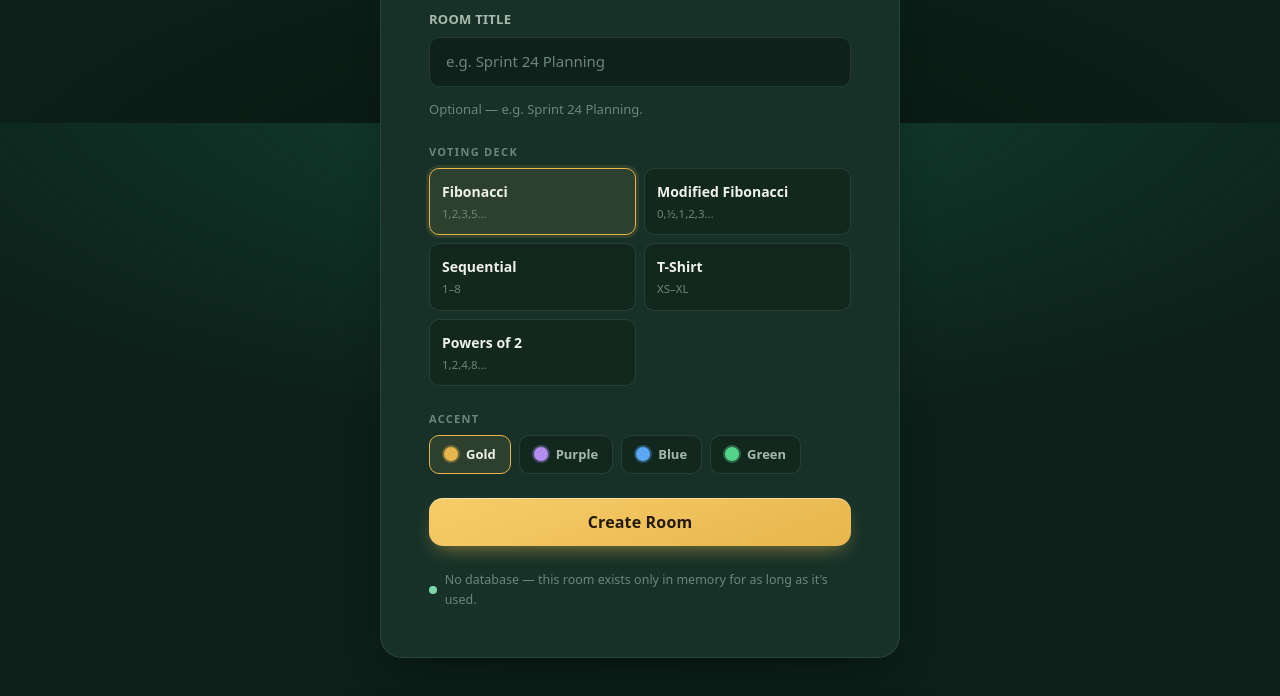
Test: CreatePage › requires a name
(page scrolled)
Click the button "Create Room" at (640, 522), box [429,498,851,546]
(page scrolled)
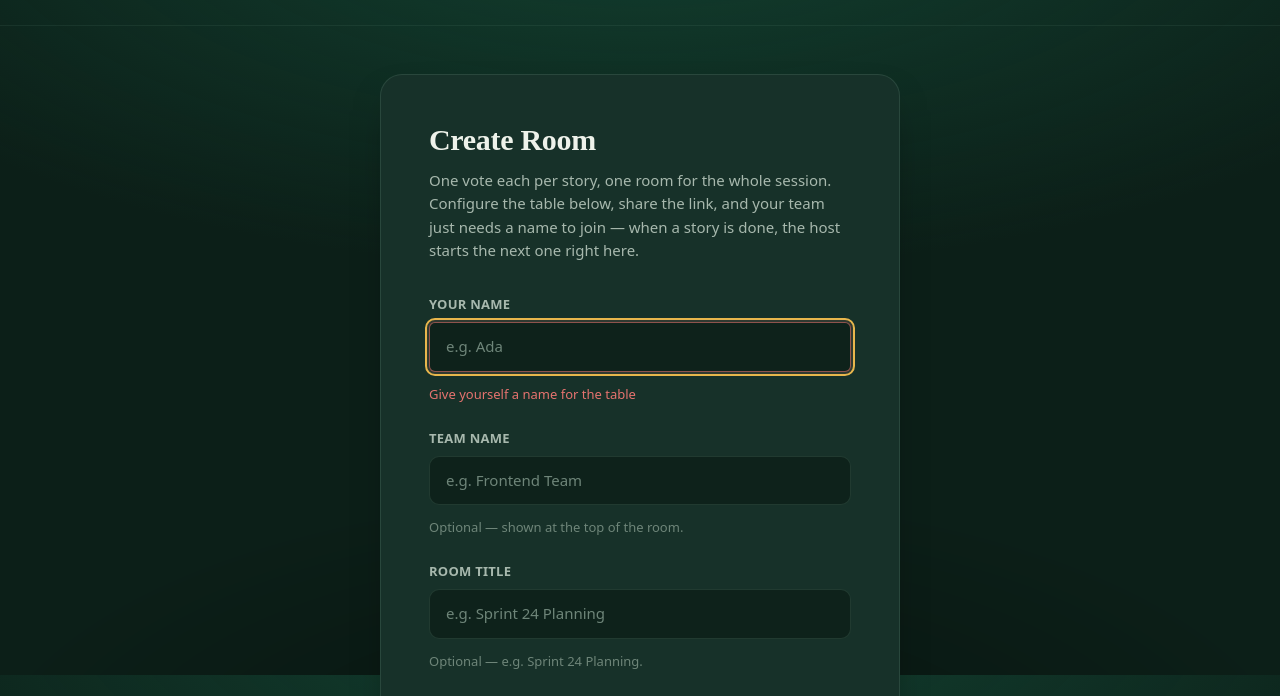
Now the message shows "name", box [429,385,636,403]
